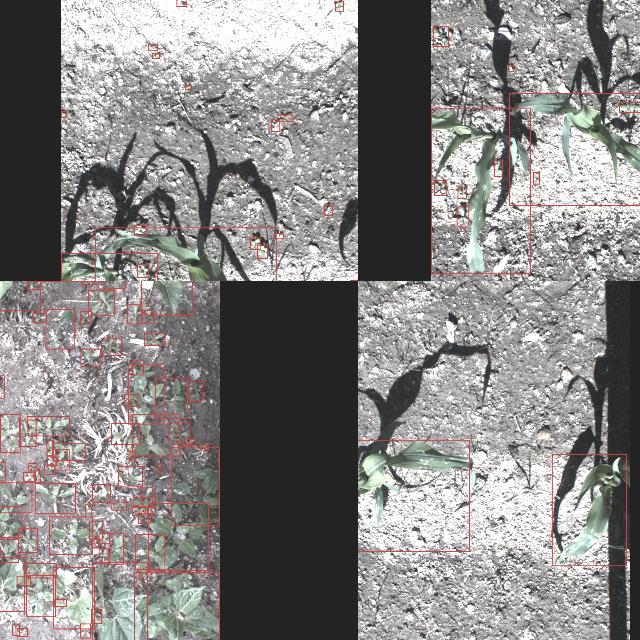crop: (430, 107, 530, 273), (508, 93, 640, 205), (358, 439, 469, 550), (94, 227, 276, 281), (552, 453, 626, 565), (134, 572, 219, 640), (92, 561, 147, 640), (52, 566, 94, 628), (140, 281, 191, 314), (0, 557, 23, 611)
weed: (148, 502, 208, 570), (171, 447, 219, 525), (128, 364, 164, 424), (132, 413, 178, 455), (48, 516, 92, 554), (154, 377, 188, 417), (25, 574, 55, 616), (34, 483, 76, 513), (45, 308, 73, 348), (135, 534, 165, 568), (0, 482, 31, 512), (27, 415, 69, 435), (0, 413, 19, 451), (88, 289, 114, 315), (0, 505, 21, 536), (110, 422, 140, 443), (53, 442, 85, 460), (18, 418, 36, 446), (26, 562, 56, 578), (118, 466, 142, 486), (168, 422, 190, 443), (109, 532, 123, 564), (18, 528, 36, 552), (0, 538, 18, 561), (80, 348, 100, 366), (101, 337, 121, 355), (92, 484, 110, 502), (432, 26, 448, 46), (126, 304, 142, 324), (189, 380, 203, 400), (54, 449, 68, 469), (456, 206, 468, 227), (88, 521, 102, 539), (144, 332, 164, 344), (618, 101, 640, 111), (133, 497, 155, 507), (142, 488, 152, 507), (492, 158, 502, 176), (433, 180, 445, 194), (124, 393, 138, 405), (131, 360, 143, 374), (103, 281, 125, 288), (136, 264, 148, 276), (142, 310, 154, 322), (257, 244, 267, 258), (80, 623, 90, 637), (91, 609, 101, 623), (98, 548, 108, 562), (132, 505, 146, 515), (32, 312, 46, 322), (80, 310, 90, 324), (250, 237, 260, 249), (134, 225, 146, 235), (456, 186, 466, 198), (98, 533, 110, 543), (138, 513, 150, 523), (112, 501, 126, 509), (16, 576, 30, 584), (22, 472, 34, 481), (26, 281, 39, 289), (270, 120, 280, 130), (138, 569, 148, 579), (44, 464, 54, 474), (46, 456, 56, 466), (278, 115, 292, 122), (16, 628, 28, 636), (54, 598, 66, 606), (46, 440, 52, 454), (335, 0, 343, 10), (324, 205, 332, 215), (11, 624, 19, 634), (0, 461, 4, 480), (533, 171, 539, 183), (85, 504, 91, 516), (34, 469, 40, 481), (183, 439, 195, 445), (92, 538, 98, 548), (155, 462, 161, 472), (129, 450, 135, 460), (28, 464, 36, 471), (176, 0, 186, 5), (275, 232, 283, 238), (148, 44, 156, 50), (148, 506, 156, 512), (200, 444, 208, 450), (152, 52, 158, 58), (60, 111, 66, 117), (185, 85, 191, 89), (508, 64, 512, 70)
